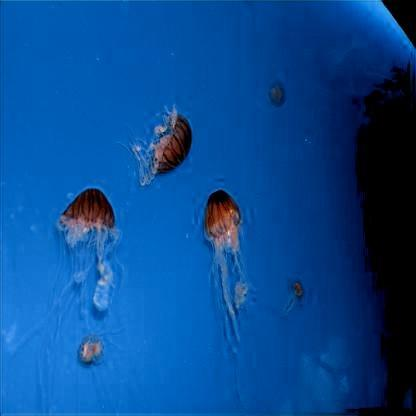Dressed: (78, 332, 104, 360)
Moon: (203, 191, 251, 315), (62, 185, 120, 285), (128, 110, 198, 188), (382, 286, 402, 332)
Mosaic: (282, 274, 308, 325)
